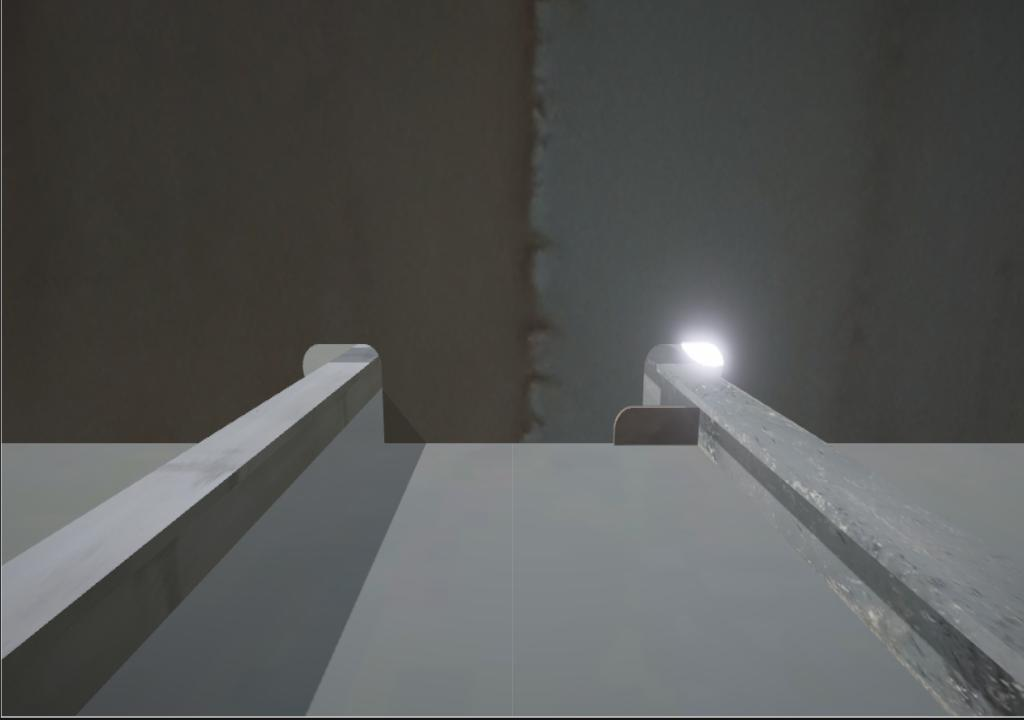fillet_yong_jeop_jang: (381, 432, 615, 453)
plate_CP05: (613, 407, 700, 444)
